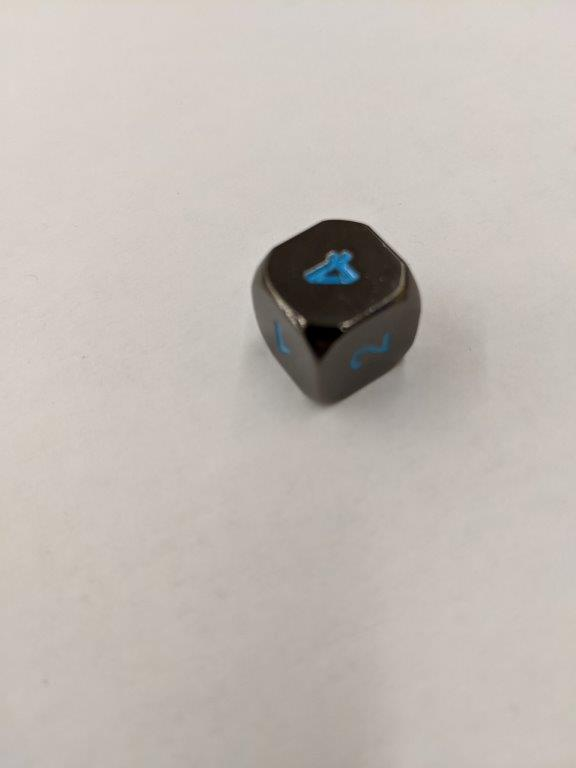d6-4: (251, 220, 422, 408)
